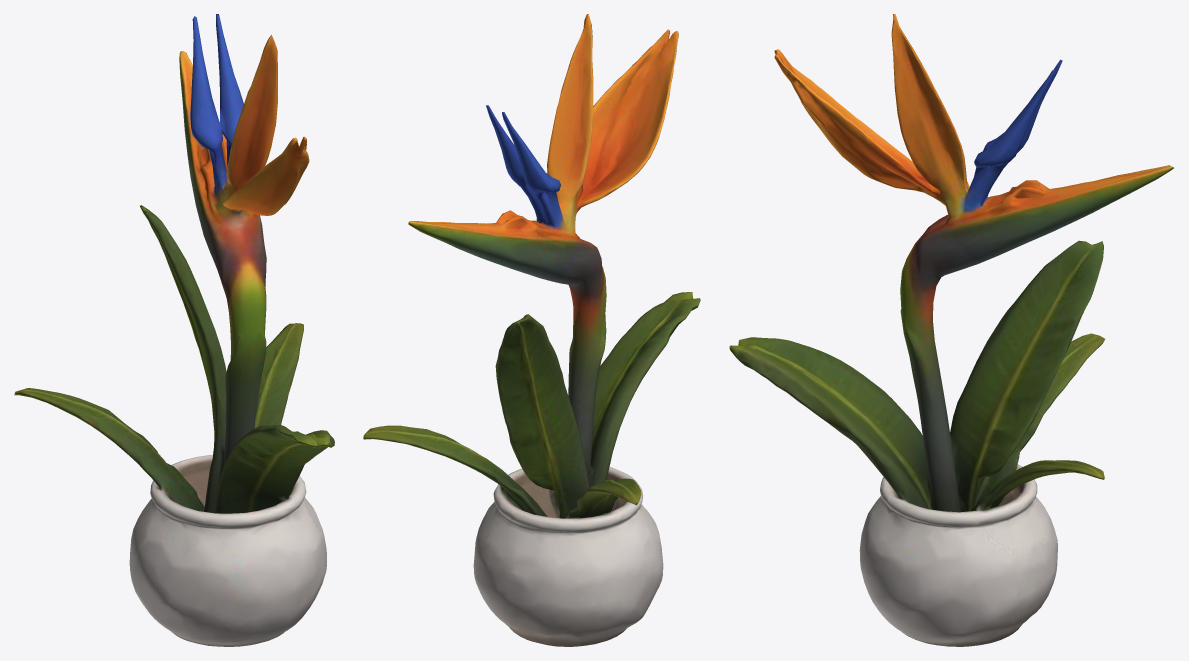
The model's file is strelitzia.glb.
3 views of the same model, side by side, from view 1: azimuth 30°, elevation 25°; view 2: azimuth 150°, elevation 25°; view 3: azimuth 270°, elevation 25° (orthographic). The views are drawn at different scales.
Parts seen in each view (by area): view 1: tripo_node_ca152957-b16e-435e-94b3-90327ff68d5d; view 2: tripo_node_ca152957-b16e-435e-94b3-90327ff68d5d; view 3: tripo_node_ca152957-b16e-435e-94b3-90327ff68d5d.
Part boxes in pixels (x1,y1,x2,y2): tripo_node_ca152957-b16e-435e-94b3-90327ff68d5d: (14,14,334,646); tripo_node_ca152957-b16e-435e-94b3-90327ff68d5d: (363,14,700,646); tripo_node_ca152957-b16e-435e-94b3-90327ff68d5d: (729,14,1173,646).
Size of the model in its own units: 0.4939 by 1 by 0.6582.
1 material, 1 textured.
